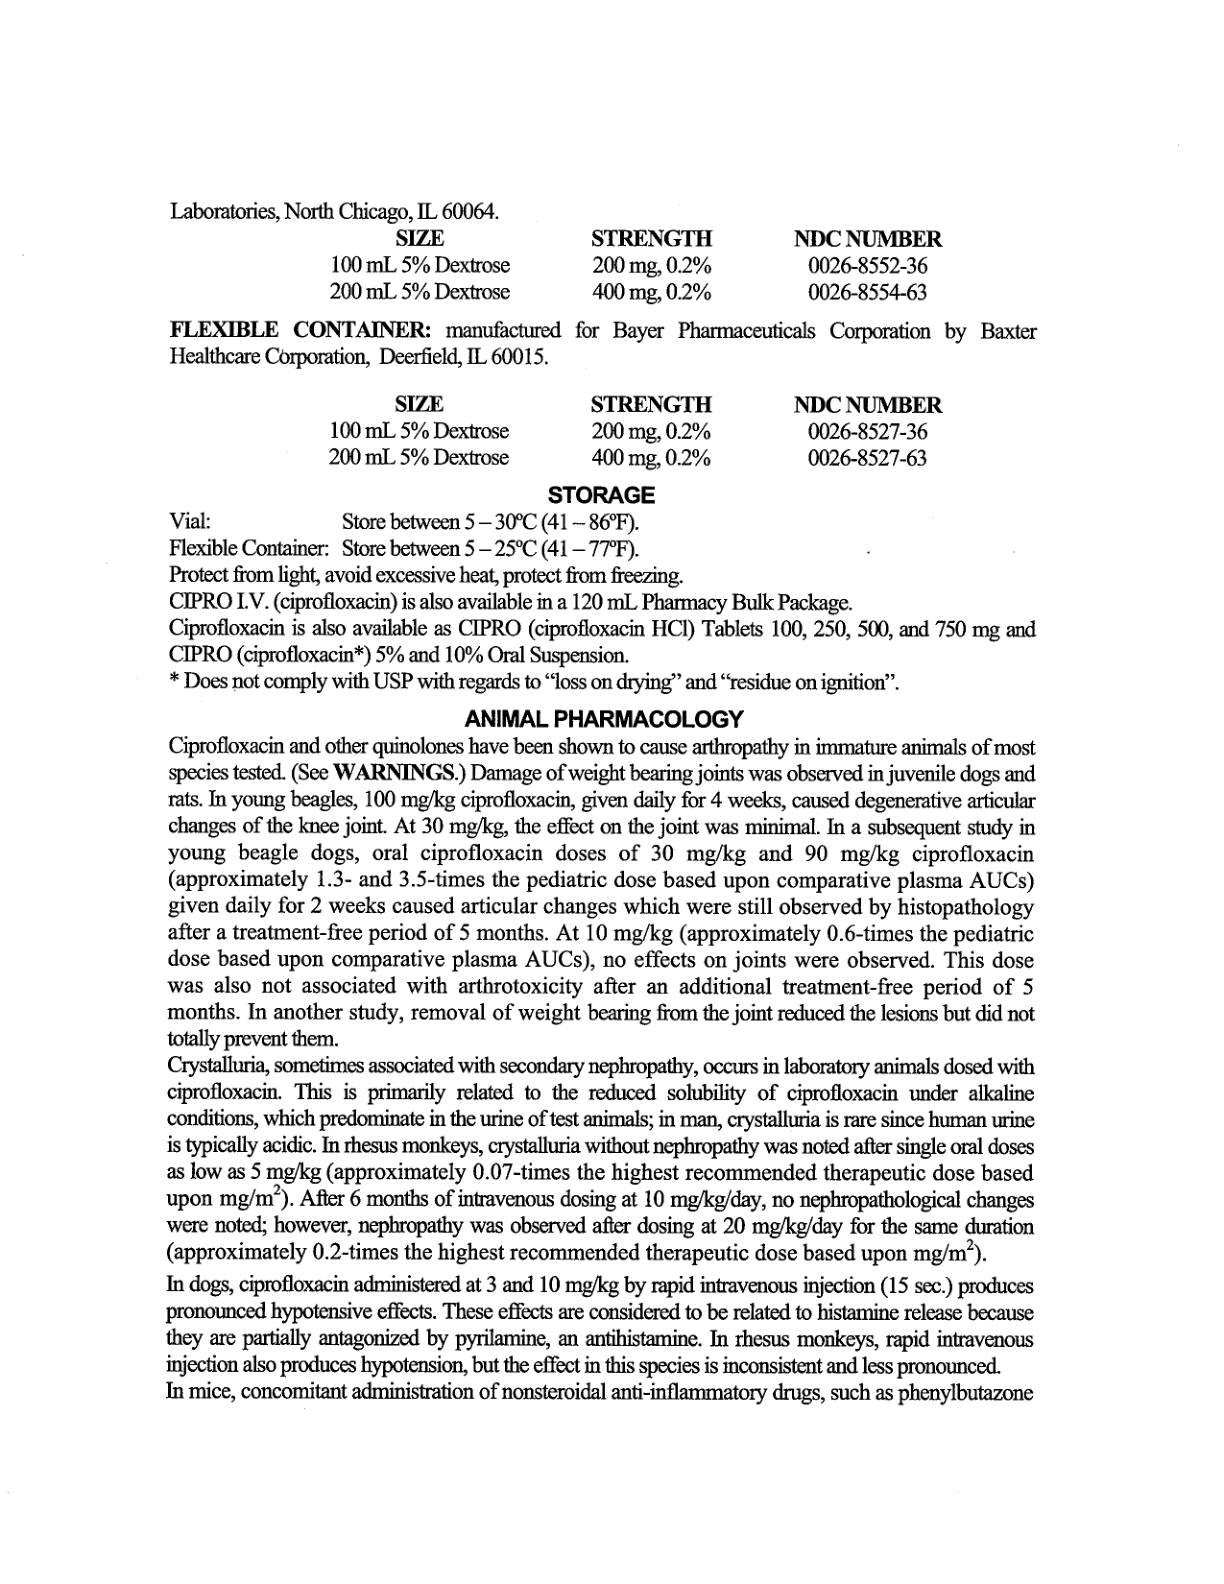nolines: (328, 228, 951, 306), (329, 395, 942, 471)
